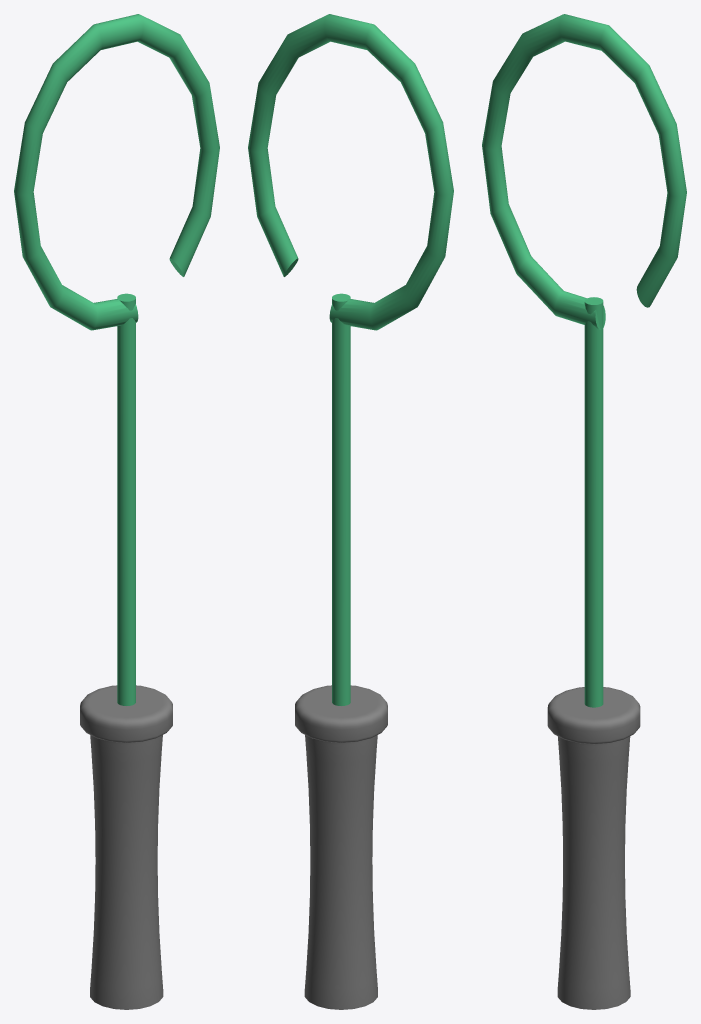
The model's file is BaguetteFait.fbx.
3 renders of one model, left to right at view 1: azimuth 30°, elevation 25°; view 2: azimuth 150°, elevation 25°; view 3: azimuth 330°, elevation 25°, orthographic.
Parts seen in each view (by area): view 1: Cylinder001; view 2: Cylinder001; view 3: Cylinder001.
Boxes of the visible parts, left/top/right/bottom form: Cylinder001: left=14, top=14, right=219, bottom=1009; Cylinder001: left=248, top=14, right=453, bottom=1009; Cylinder001: left=482, top=14, right=686, bottom=1009.
Size of the model in its own units: 9.48 by 43.48 by 3.75.
